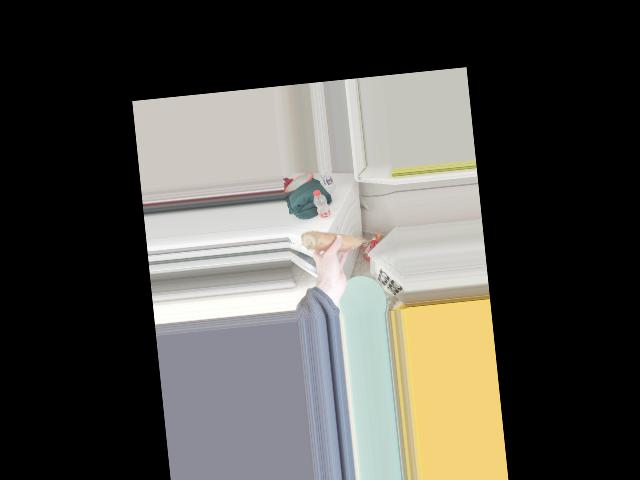sweet_potato: (300, 231, 365, 253)
